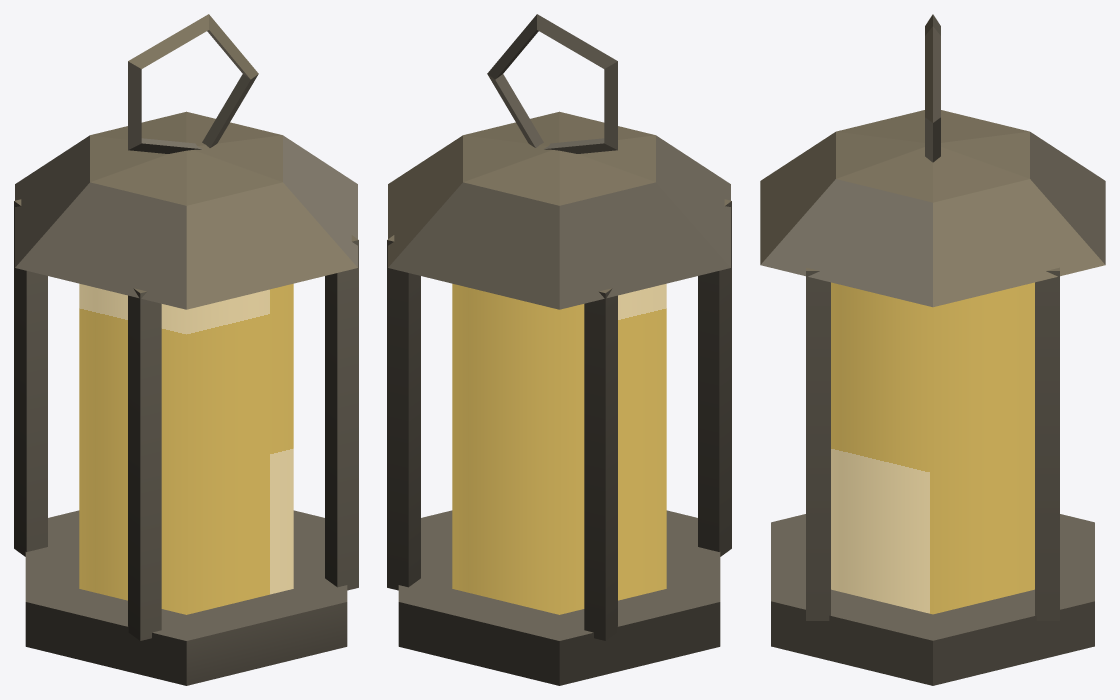
The model's file is prop.device.glb.
The picture shows the model from 3 angles, left to right: view 1: azimuth 30°, elevation 25°; view 2: azimuth 150°, elevation 25°; view 3: azimuth 270°, elevation 25°; orthographic projection.
Visible parts, largest first — view 1: kit_device, kit_device_glow; view 2: kit_device, kit_device_glow; view 3: kit_device, kit_device_glow.
Boxes of the visible parts, bbox=[...] form: kit_device: bbox=[14, 14, 358, 685]; kit_device_glow: bbox=[79, 283, 293, 614]; kit_device: bbox=[387, 14, 731, 685]; kit_device_glow: bbox=[452, 283, 666, 614]; kit_device: bbox=[760, 14, 1105, 685]; kit_device_glow: bbox=[831, 282, 1034, 614].
Size of the model in its own units: 0.16 by 0.2621 by 0.1386.
Materials: 2 (1 with a texture image).
